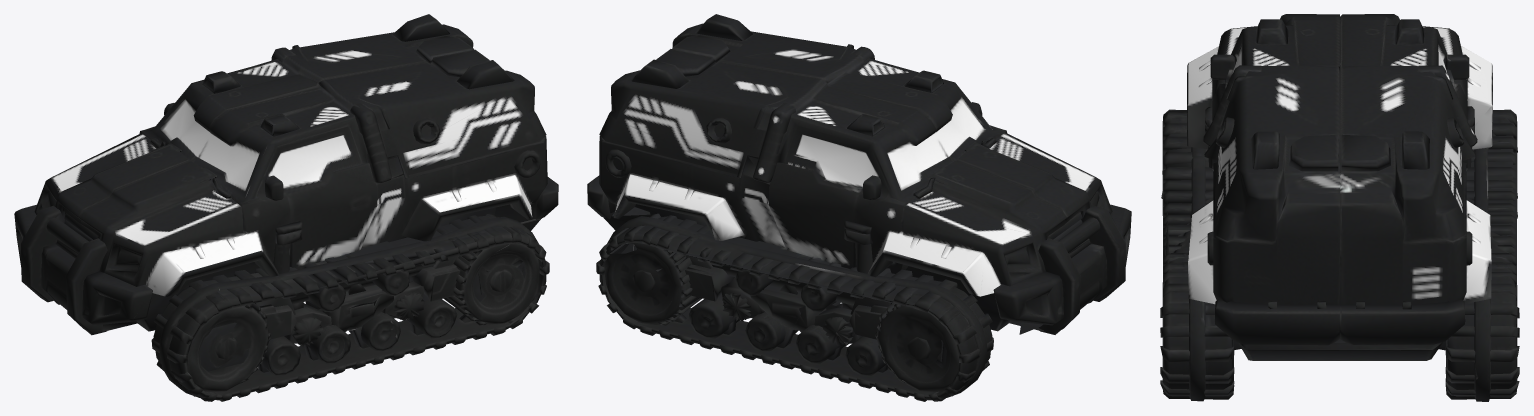
File: Meshy_AI_Retextured_Toy_Tank_A_1110112620_texture.fbx
The picture shows the model from 3 angles, left to right: view 1: azimuth 30°, elevation 25°; view 2: azimuth 150°, elevation 25°; view 3: azimuth 270°, elevation 25°; orthographic projection. The views are drawn at different scales.
Parts seen in each view (by area): view 1: Mesh_0; view 2: Mesh_0; view 3: Mesh_0.
Part boxes in pixels (x1,y1,x2,y2): Mesh_0: (14,14,558,401); Mesh_0: (587,14,1131,401); Mesh_0: (1160,14,1519,401).
Bounding box in the file's own units: 252 × 120 × 143.
Materials: 1 (1 with a texture image).
